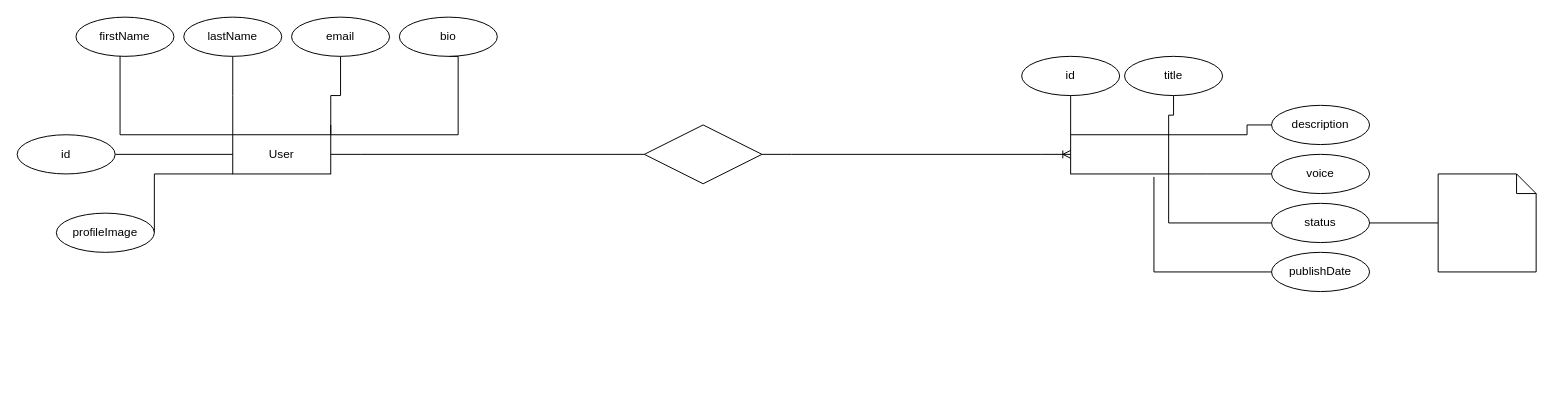
This 1553x415 diagram has some shape labels left out. The shapes that lost their labels are listed below. From the top down, each one's centre as x and y in pixels, then its label:
At pixel 702 154: "create".
At pixel 1119 154: "Book".
At pixel 1486 222: "publish draft".
